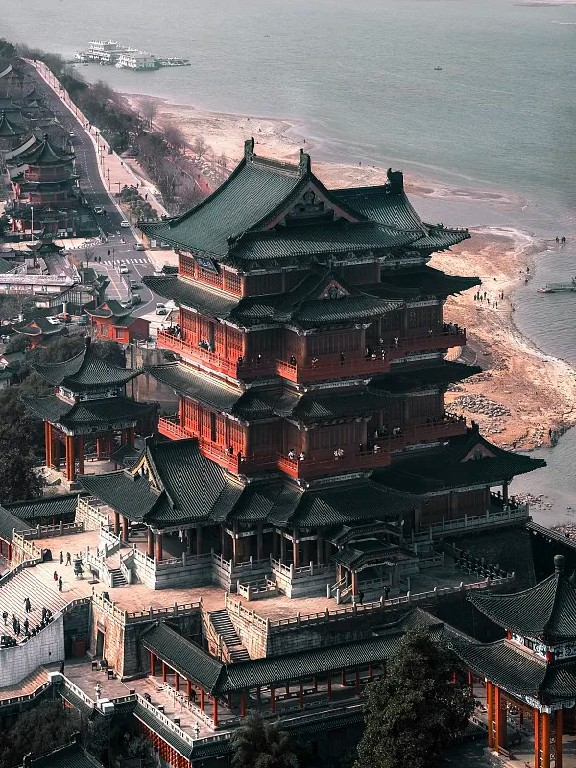Teng: (77, 139, 546, 586)
